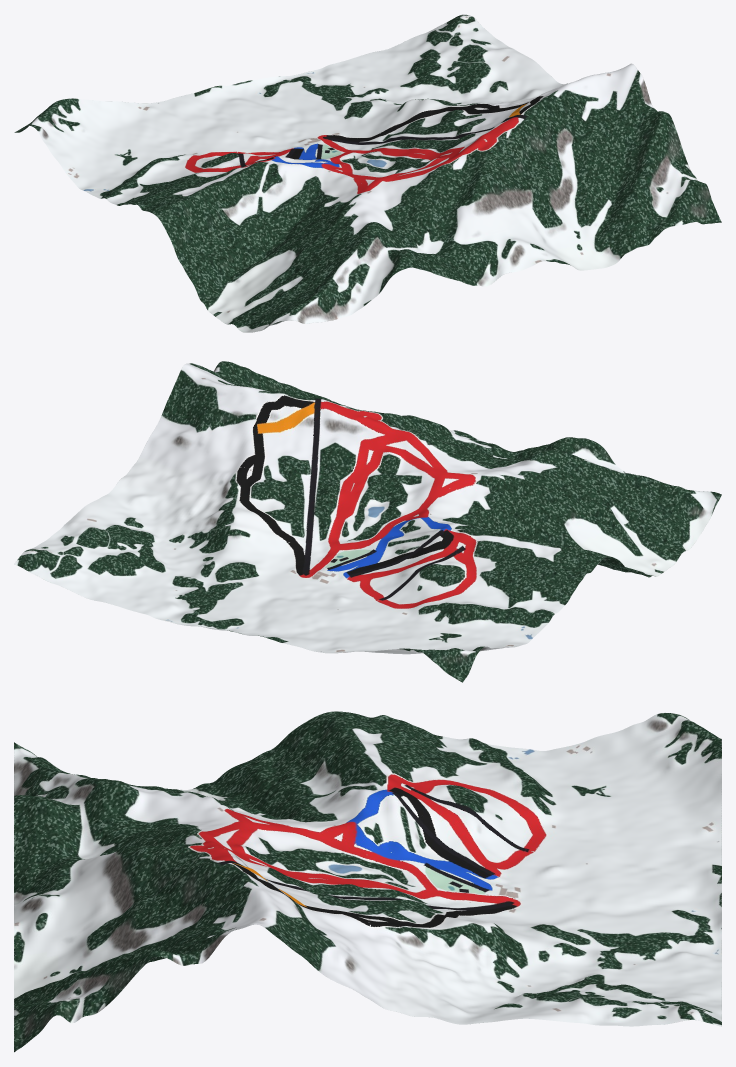
3 views of the same model, one above another, from view 1: azimuth 30°, elevation 25°; view 2: azimuth 150°, elevation 25°; view 3: azimuth 270°, elevation 25° (orthographic). The views are drawn at different scales.
Visible parts, largest first — view 1: H2_Hochhaederich.glb; view 2: H2_Hochhaederich.glb; view 3: H2_Hochhaederich.glb.
Boxes of the visible parts, x1,y1,x2,y2 form: H2_Hochhaederich.glb: [14, 14, 721, 332]; H2_Hochhaederich.glb: [14, 361, 721, 682]; H2_Hochhaederich.glb: [14, 711, 721, 1052].
Bounding box in the file's own units: 2180 × 560 × 2180.
1 material, 1 textured.
